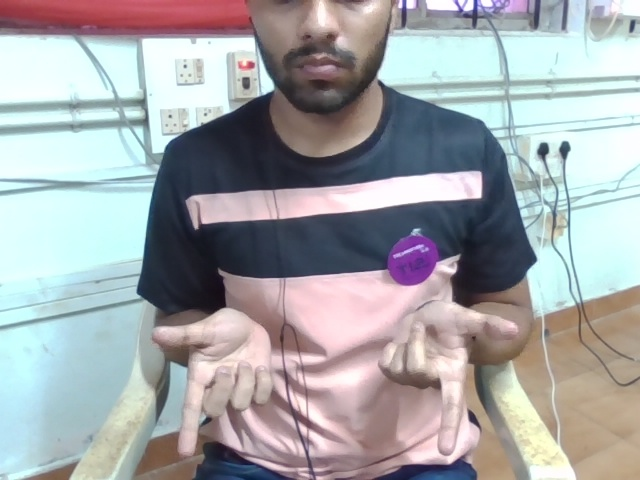go: (142, 277, 530, 463)
